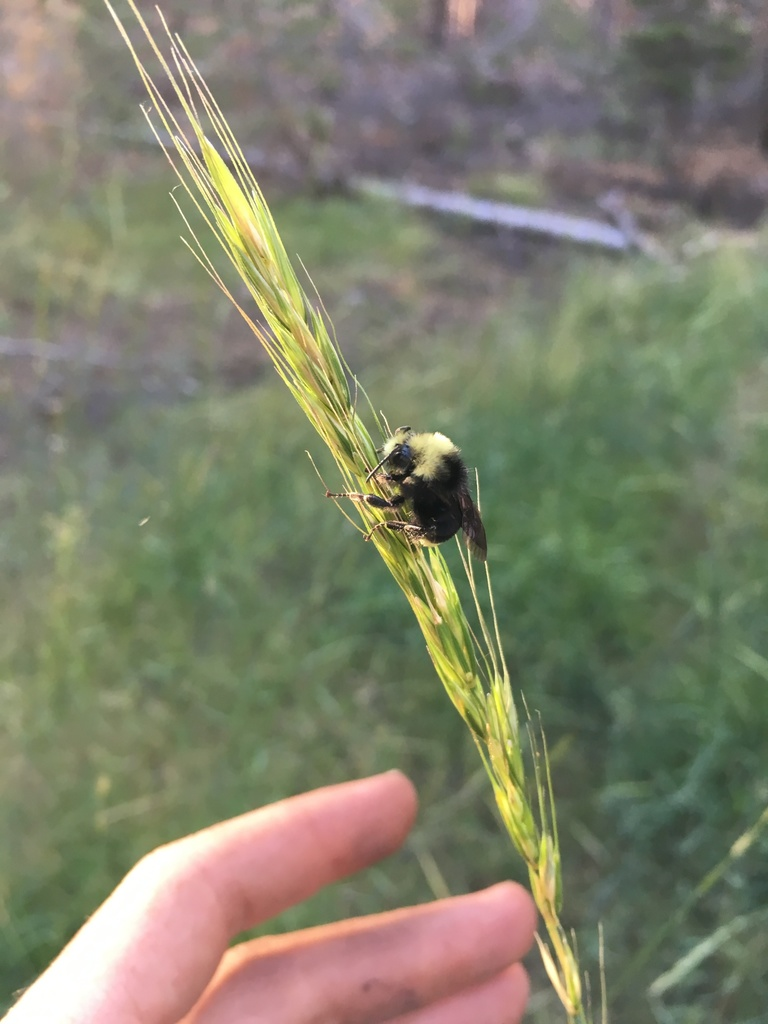bumblebee: (323, 426, 488, 565)
